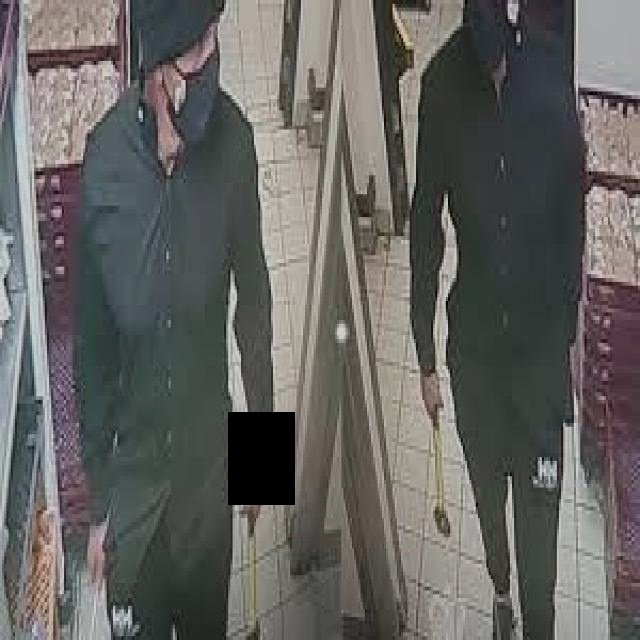gun: (411, 373, 467, 544), (234, 505, 292, 632), (80, 579, 102, 635)
